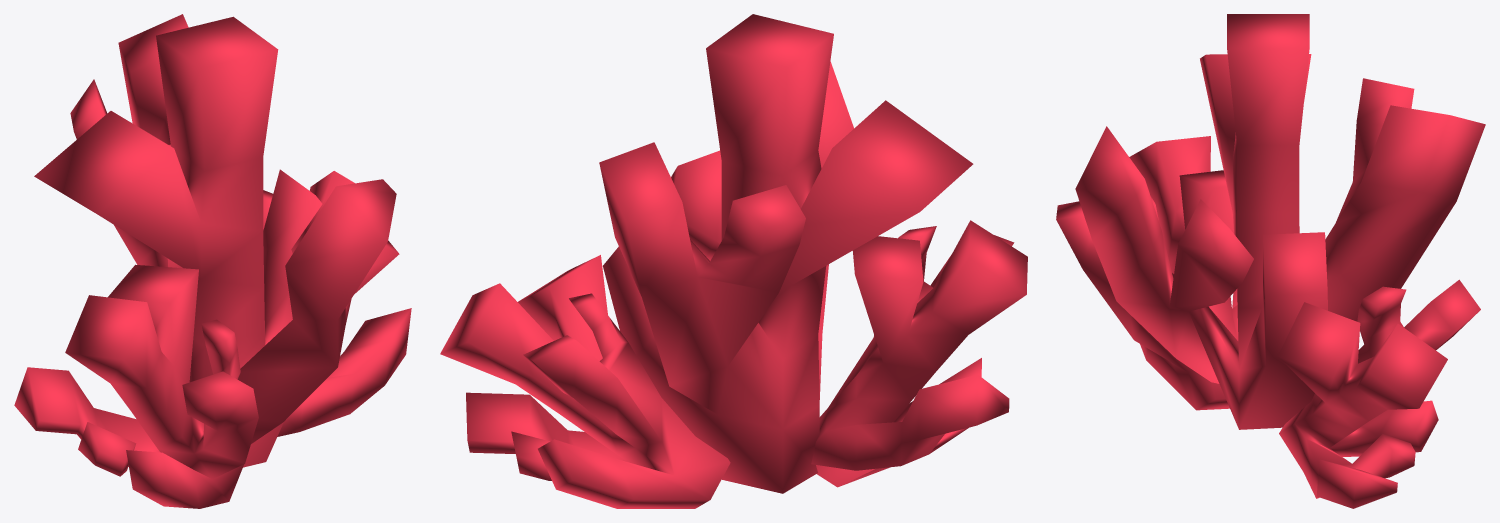
The model's file is coral1_.coral.glb.
3 renders of one model, left to right at view 1: azimuth 30°, elevation 25°; view 2: azimuth 150°, elevation 25°; view 3: azimuth 270°, elevation 25°, orthographic. The views are drawn at different scales.
Parts seen in each view (by area): view 1: Cube; view 2: Cube; view 3: Cube.
Boxes of the visible parts, x1,y1,x2,y2 form: Cube: (14,14,411,508); Cube: (440,14,1027,508); Cube: (1056,14,1485,508).
Size of the model in its own units: 15.29 by 14.37 by 13.81.
